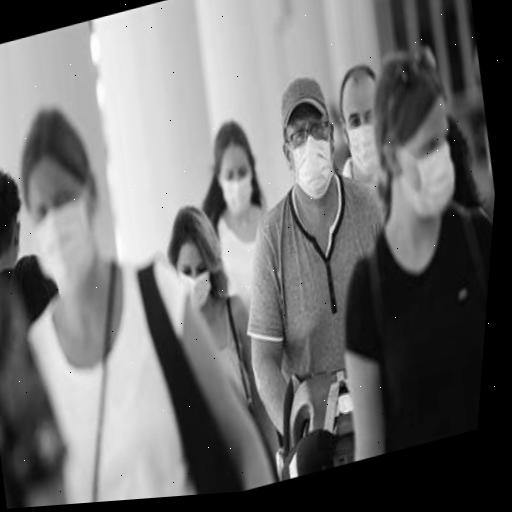mask: (0, 92, 124, 303), (359, 37, 474, 233), (266, 69, 351, 210), (326, 58, 399, 183), (154, 198, 225, 316), (202, 113, 267, 221)
